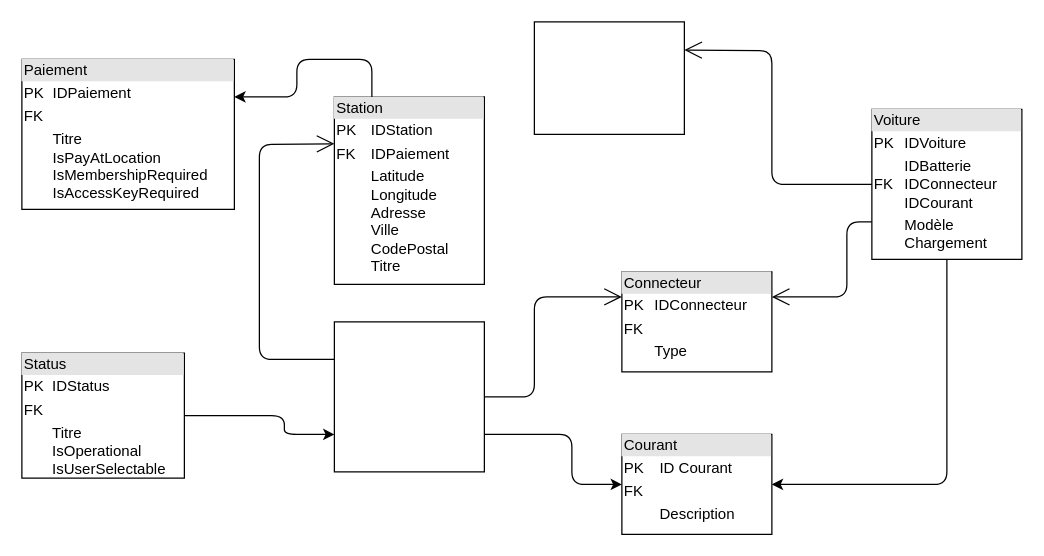
Image size: 1044x556. Some labels were removed from this diagram. The centre of each missing label's shape, as x and y in pixels:
Batterie PK IDBatterie FK Capacité Autonomie: point (608, 77)
Borne PK IDBorne FK IDStation IDConnecteur IDCourant IDStatus Puissance: point (408, 396)
